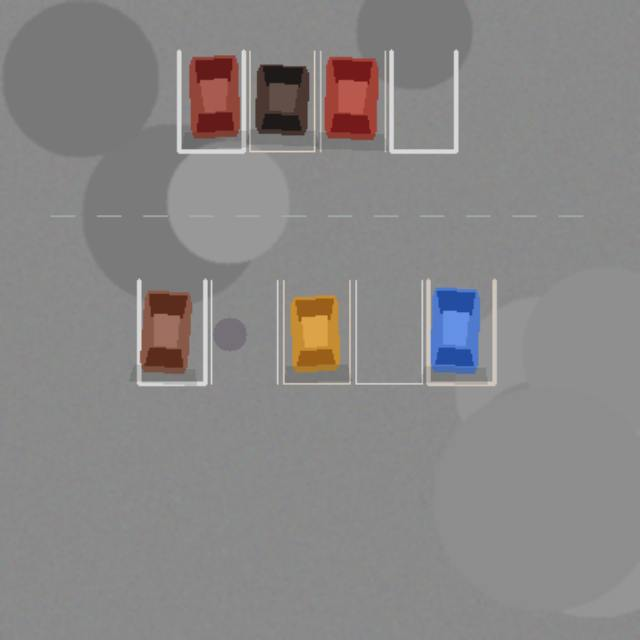space-empty: (355, 280, 422, 383), (211, 280, 277, 383), (391, 51, 455, 151)
space-occupied: (138, 280, 205, 383), (283, 280, 349, 383), (428, 280, 494, 383), (178, 51, 243, 151), (249, 51, 314, 151), (320, 51, 385, 151)
